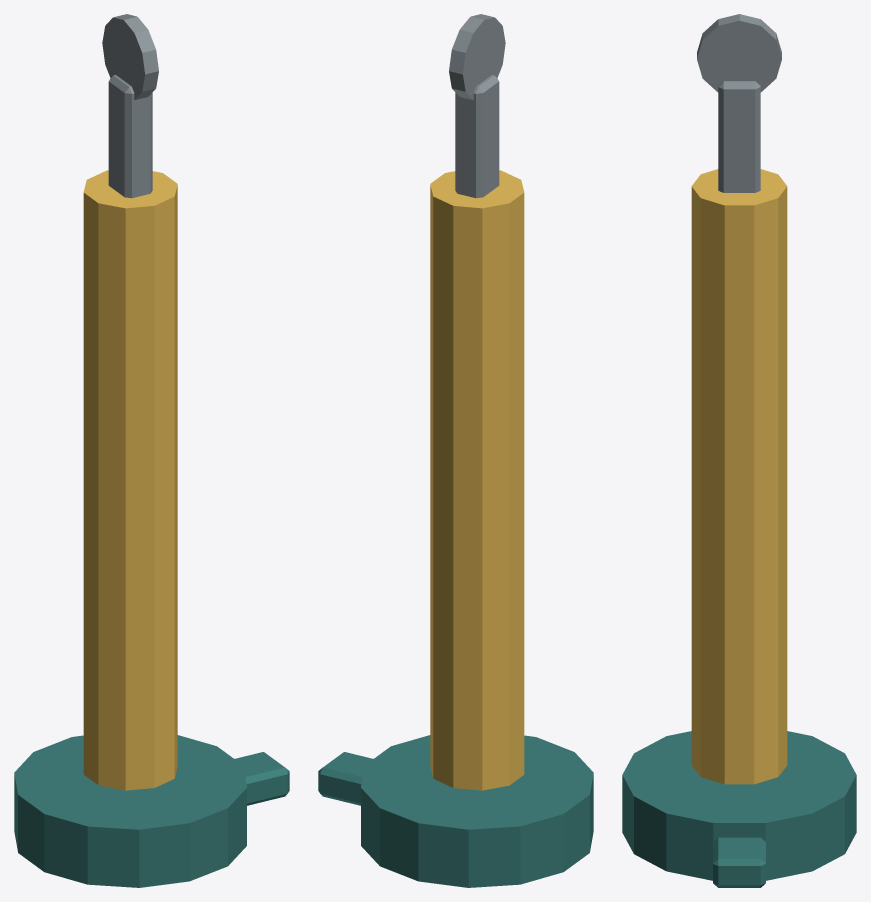
The model's file is Tool_GlassCutter.fbx.
3 views of the same model, side by side, from view 1: azimuth 30°, elevation 25°; view 2: azimuth 150°, elevation 25°; view 3: azimuth 270°, elevation 25° (orthographic).
Parts seen in each view (by area): view 1: Handle.002, Suction, Neck.001, Wheel, SuctionTab; view 2: Handle.002, Suction, Neck.001, Wheel, SuctionTab; view 3: Handle.002, Suction, Wheel, Neck.001, SuctionTab.
Boxes of the visible parts, x1,y1,x2,y2 form: Handle.002: [83, 170, 177, 790]; Suction: [14, 735, 246, 887]; Neck.001: [108, 75, 152, 198]; Wheel: [102, 14, 158, 100]; SuctionTab: [235, 752, 289, 805]; Handle.002: [430, 170, 524, 790]; Suction: [361, 735, 593, 887]; Neck.001: [455, 75, 499, 198]; Wheel: [449, 14, 505, 100]; SuctionTab: [318, 752, 372, 805]; Handle.002: [691, 169, 787, 784]; Suction: [622, 731, 856, 880]; Wheel: [697, 14, 781, 92]; Neck.001: [718, 81, 760, 192]; SuctionTab: [713, 837, 765, 887].
Bounding box in the file's own units: 0.0534 × 0.169 × 0.044.
